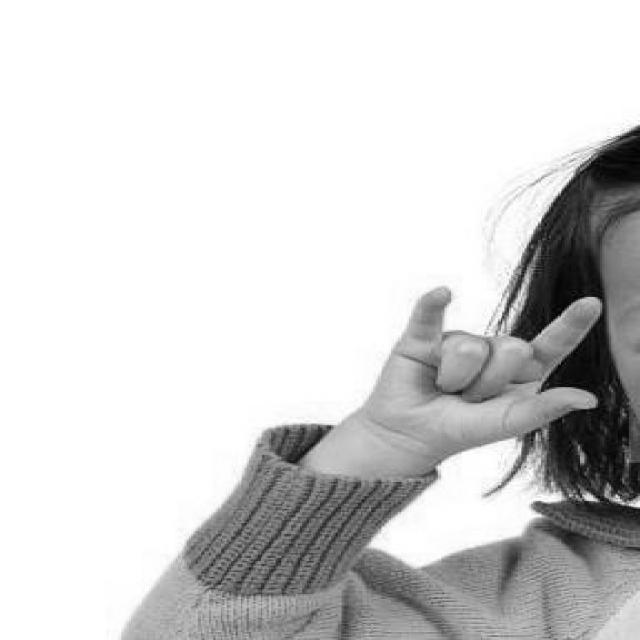i love you: (351, 278, 611, 463)
